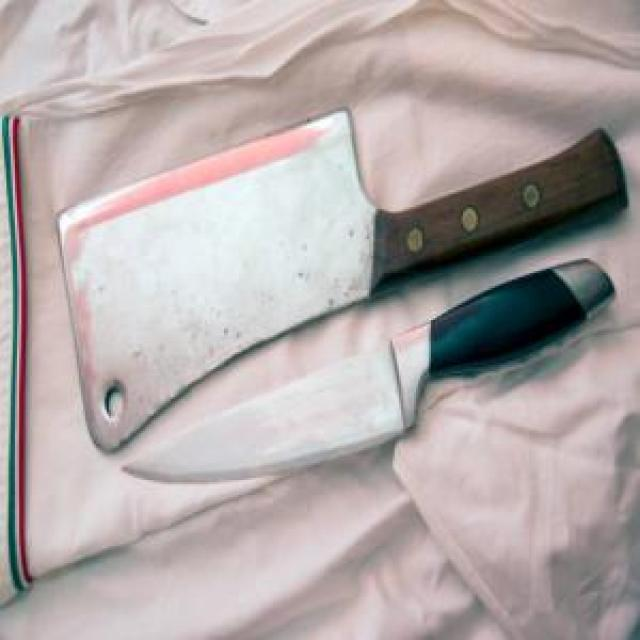knife: (54, 107, 630, 456), (119, 258, 623, 482)
